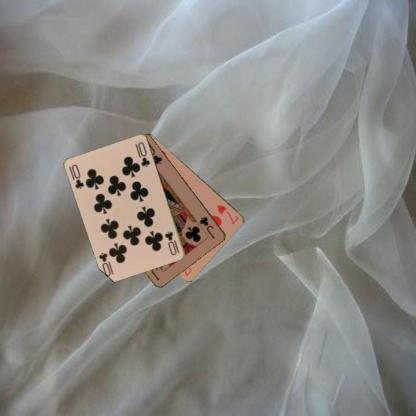10c: (162, 229, 180, 256), (70, 162, 86, 190)
7h: (215, 202, 240, 226)
Jc: (197, 214, 217, 240)
